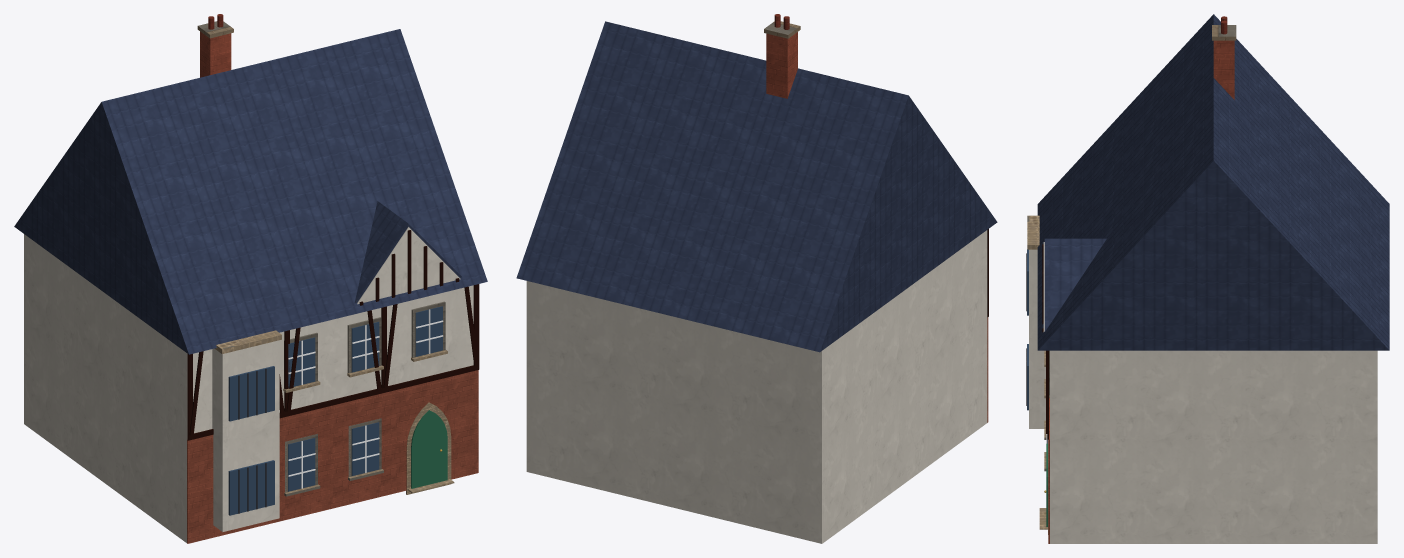
The model's file is tudor_w10_1.gltf.
The picture shows the model from 3 angles, left to right: view 1: azimuth 30°, elevation 25°; view 2: azimuth 150°, elevation 25°; view 3: azimuth 270°, elevation 25°; orthographic projection.
Parts seen in each view (by area): view 1: tudor_w10_1; view 2: tudor_w10_1; view 3: tudor_w10_1.
Boxes of the visible parts, x1=… form: tudor_w10_1: x1=14, y1=14, x2=487, y2=543; tudor_w10_1: x1=516, y1=14, x2=997, y2=543; tudor_w10_1: x1=1026, y1=14, x2=1389, y2=543.
Size of what is drawn, in the model's own units: 9.96 by 14.01 by 10.43.
8 materials, 5 textured.
